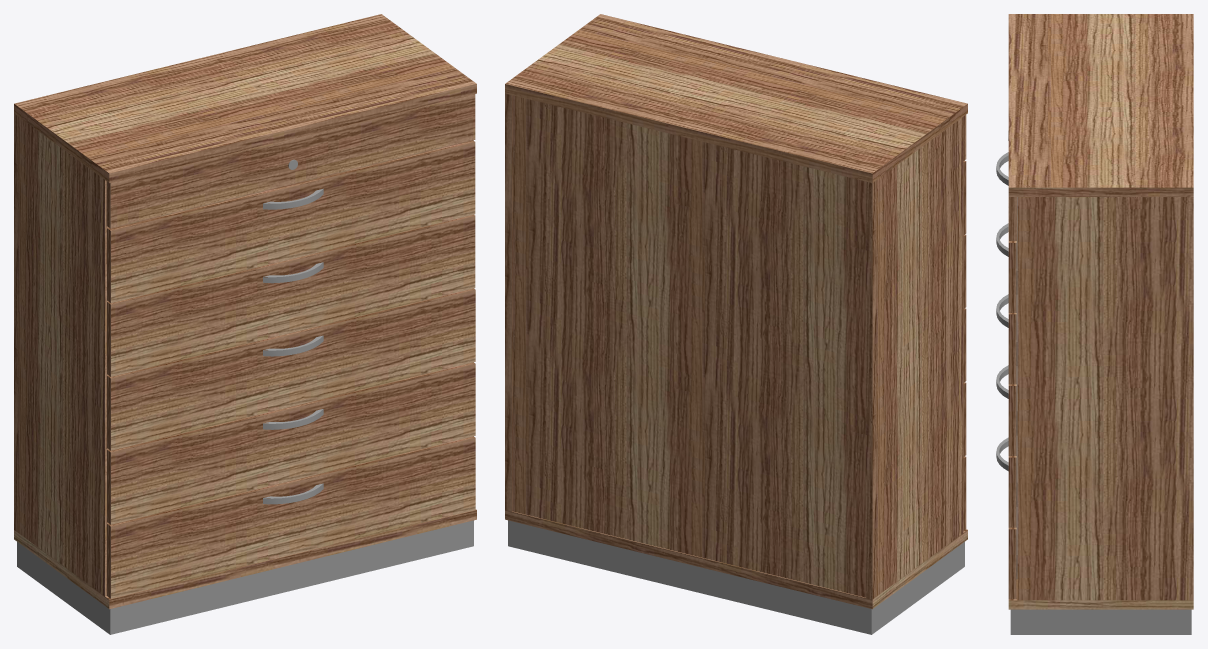
Rendered from baseline_3OH_100x45_vertical_cabinet_5szuflad_finala.fbx.
3 views of the same model, side by side, from view 1: azimuth 30°, elevation 25°; view 2: azimuth 150°, elevation 25°; view 3: azimuth 270°, elevation 25° (orthographic). The views are drawn at different scales.
Parts seen in each view (by area): view 1: drewno_mesh (×7), metal_mesh; view 2: drewno_mesh, metal_mesh; view 3: drewno_mesh (×7), metal_mesh.
Part boxes in pixels (bbox=[...]): drewno_mesh (×7): bbox=[14, 14, 476, 609]; metal_mesh: bbox=[17, 520, 473, 634]; drewno_mesh: bbox=[505, 14, 967, 609]; metal_mesh: bbox=[508, 520, 964, 634]; drewno_mesh (×7): bbox=[1008, 14, 1193, 609]; metal_mesh: bbox=[1010, 609, 1191, 634].
Size of the model in its own units: 100 by 120 by 47.99.
